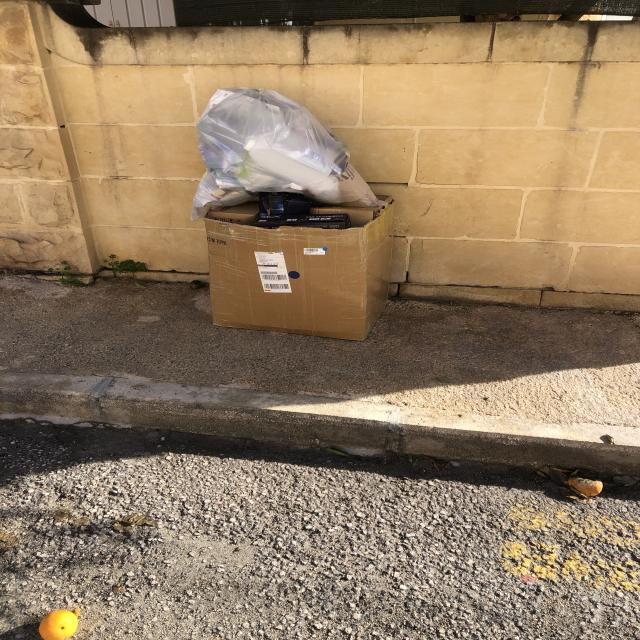Other: (205, 195, 397, 343)
Recycled Waste -Grey or Green Bag-: (190, 87, 392, 221)
